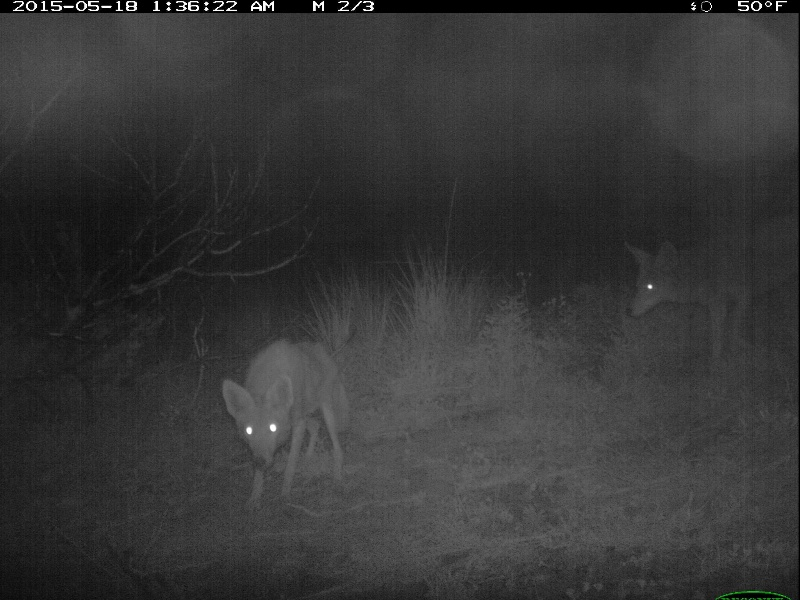coyote: (219, 334, 353, 518), (625, 226, 800, 361)
